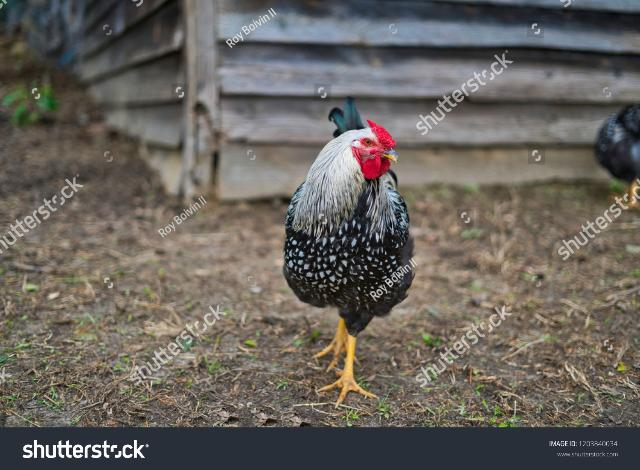Chicken: (283, 94, 414, 406)
